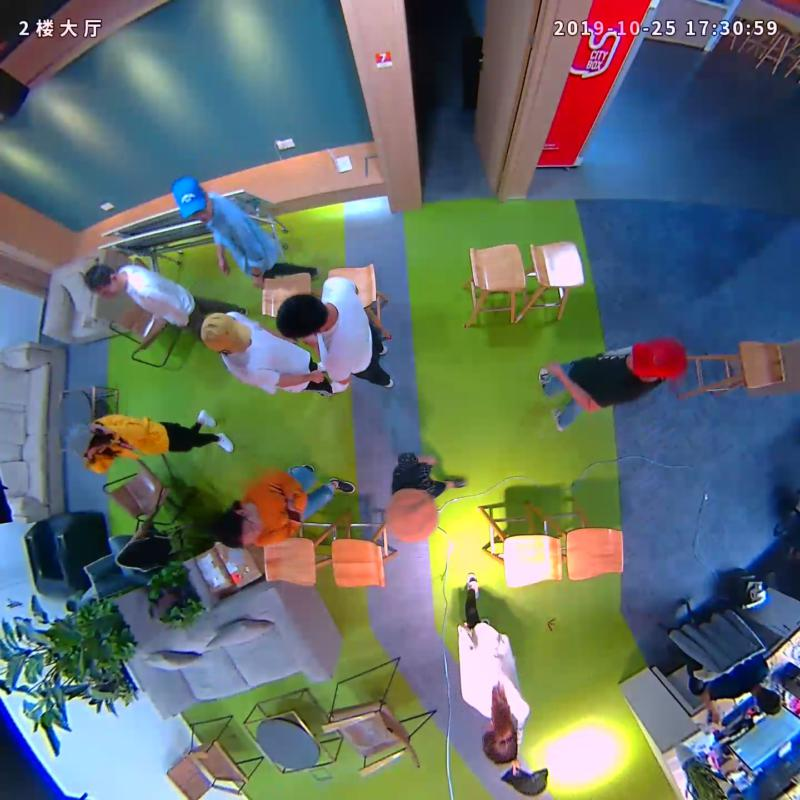head: (386, 487, 439, 545), (627, 335, 687, 379), (275, 293, 329, 340), (200, 312, 252, 354), (171, 175, 212, 225), (215, 509, 264, 550), (64, 421, 111, 459), (481, 721, 518, 765), (83, 264, 122, 300)
